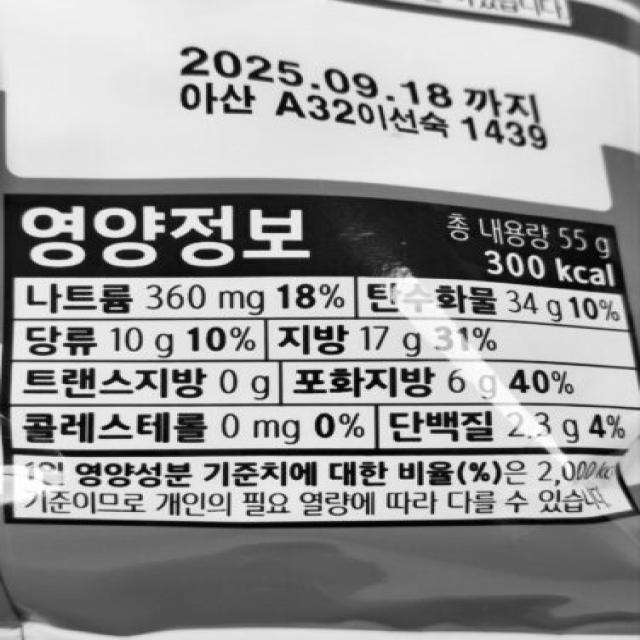Nutrition Label: (0, 171, 640, 547)
